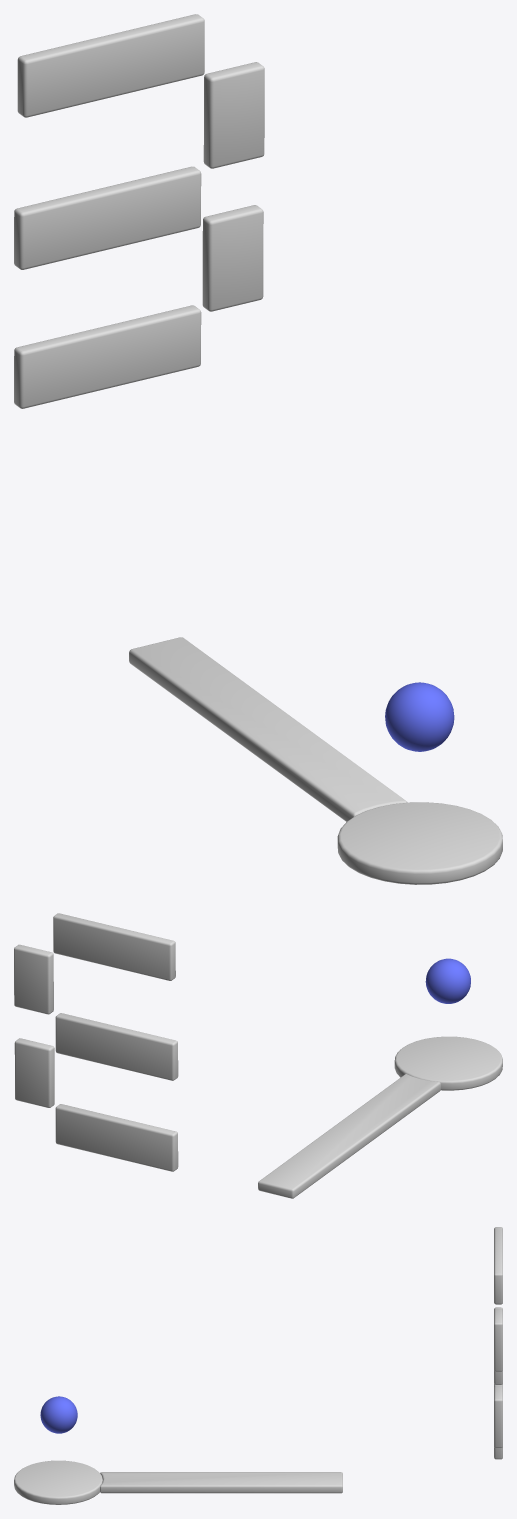
The model's file is level3.glb.
The picture shows the model from 3 angles, top to bottom: view 1: azimuth 30°, elevation 25°; view 2: azimuth 150°, elevation 25°; view 3: azimuth 270°, elevation 25°; orthographic projection. The views are drawn at different scales.
Visible parts, largest first — view 1: Cube, Cube.003, Cube.001, Cube.002, Start, Cube.005, Cube.004, Player; view 2: Cube, Cube.001, Cube.002, Cube.003, Start, Cube.005, Cube.004, Player; view 3: Cube, Start, Player, Cube.003, Cube.004, Cube.005.
Boxes of the visible parts, bbox=[...] form: Cube: bbox=[129, 637, 407, 821]; Cube.003: bbox=[17, 14, 204, 117]; Cube.001: bbox=[14, 166, 201, 269]; Cube.002: bbox=[14, 305, 201, 408]; Start: bbox=[337, 802, 502, 884]; Cube.005: bbox=[202, 205, 263, 311]; Cube.004: bbox=[203, 62, 264, 168]; Player: bbox=[385, 682, 454, 751]; Cube: bbox=[258, 1074, 440, 1198]; Cube.001: bbox=[55, 1013, 178, 1080]; Cube.002: bbox=[55, 1104, 178, 1171]; Cube.003: bbox=[53, 913, 175, 980]; Start: bbox=[394, 1036, 502, 1090]; Cube.005: bbox=[14, 1038, 54, 1107]; Cube.004: bbox=[14, 944, 53, 1014]; Player: bbox=[425, 958, 470, 1003]; Cube: bbox=[100, 1472, 342, 1493]; Start: bbox=[14, 1460, 102, 1504]; Player: bbox=[40, 1396, 77, 1433]; Cube.003: bbox=[494, 1227, 502, 1304]; Cube.004: bbox=[494, 1309, 502, 1371]; Cube.005: bbox=[494, 1386, 502, 1447].
Bounding box in the file's own units: 10.74 × 15.55 × 26.21.
